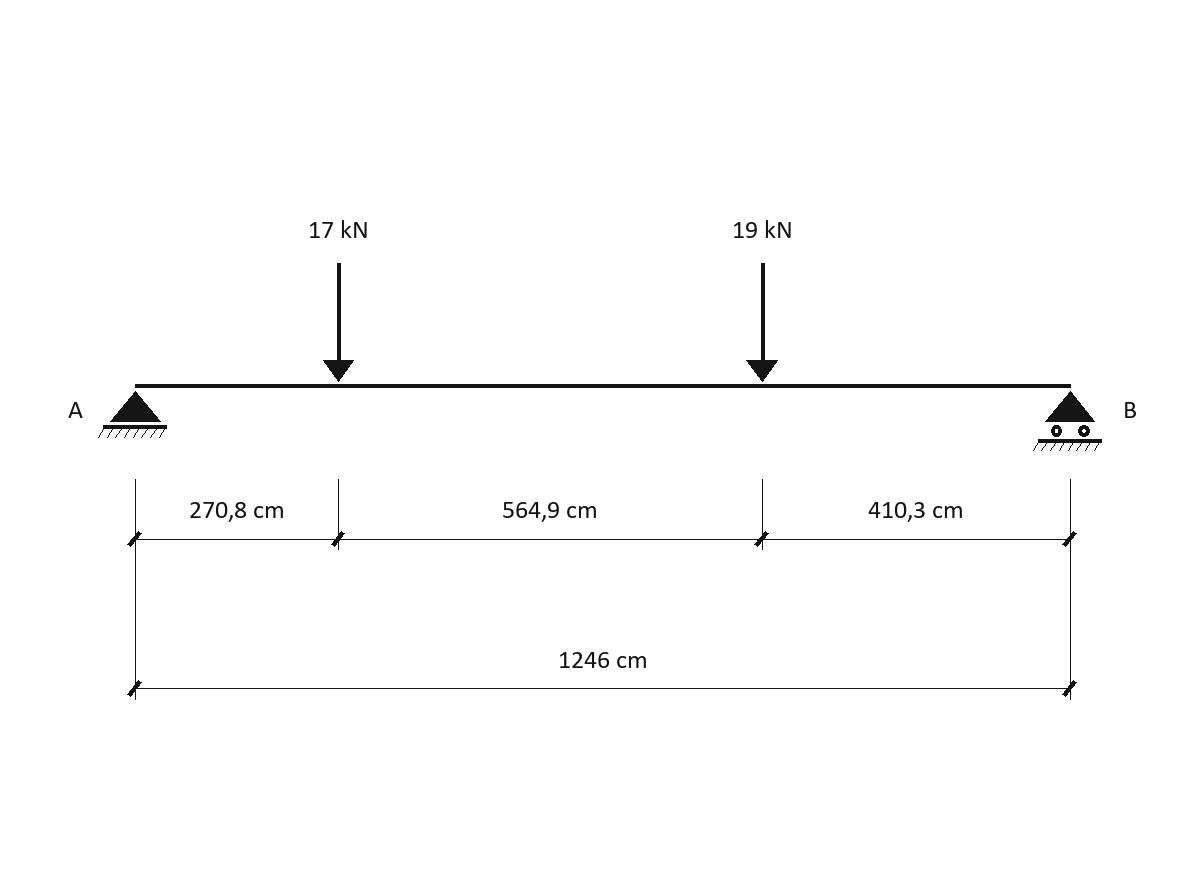pin_support: (98, 391, 167, 438)
point_load: (746, 263, 778, 382), (323, 263, 354, 382)
roller_support: (1033, 391, 1102, 451)
